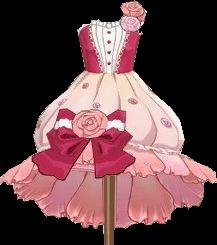Bodice: (77, 0, 146, 73)
Hemline: (0, 166, 216, 183)
Neckline: (77, 1, 134, 29), (116, 20, 130, 72), (89, 22, 103, 73)
Skirt: (0, 71, 216, 228)
Waistline: (36, 141, 181, 154), (83, 68, 134, 75)
